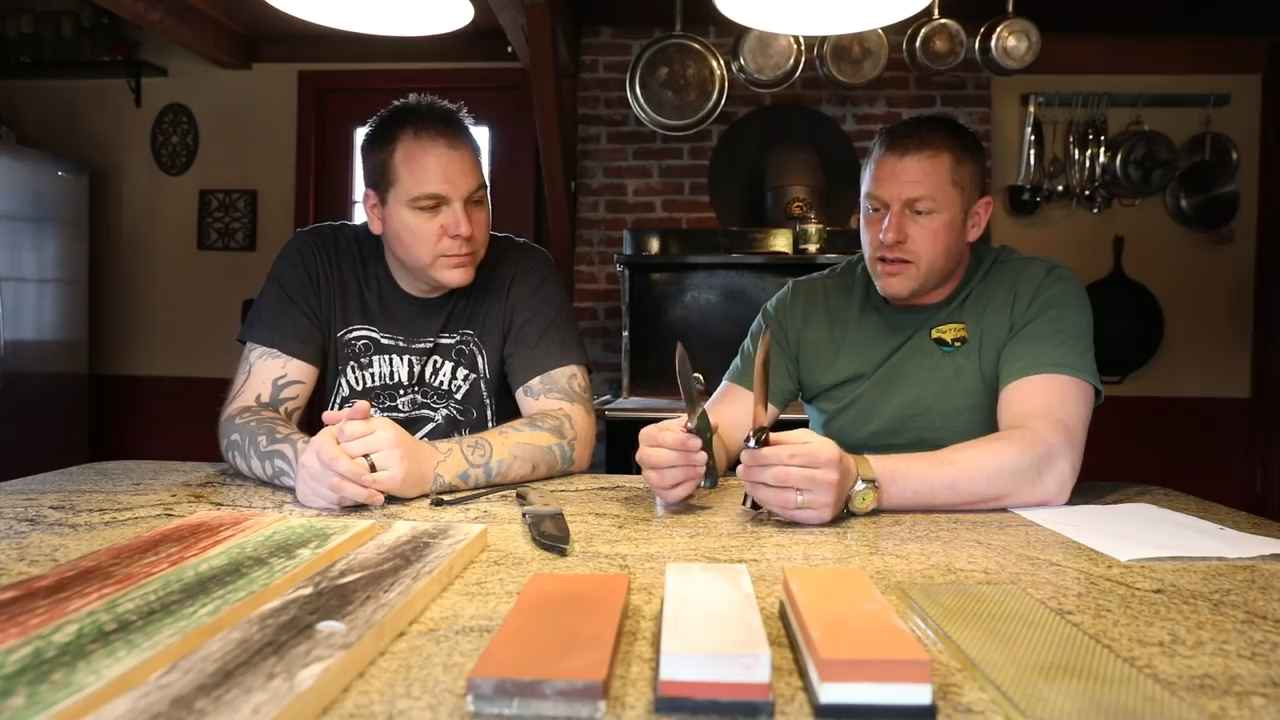knife: (742, 311, 835, 477), (629, 328, 725, 476)
